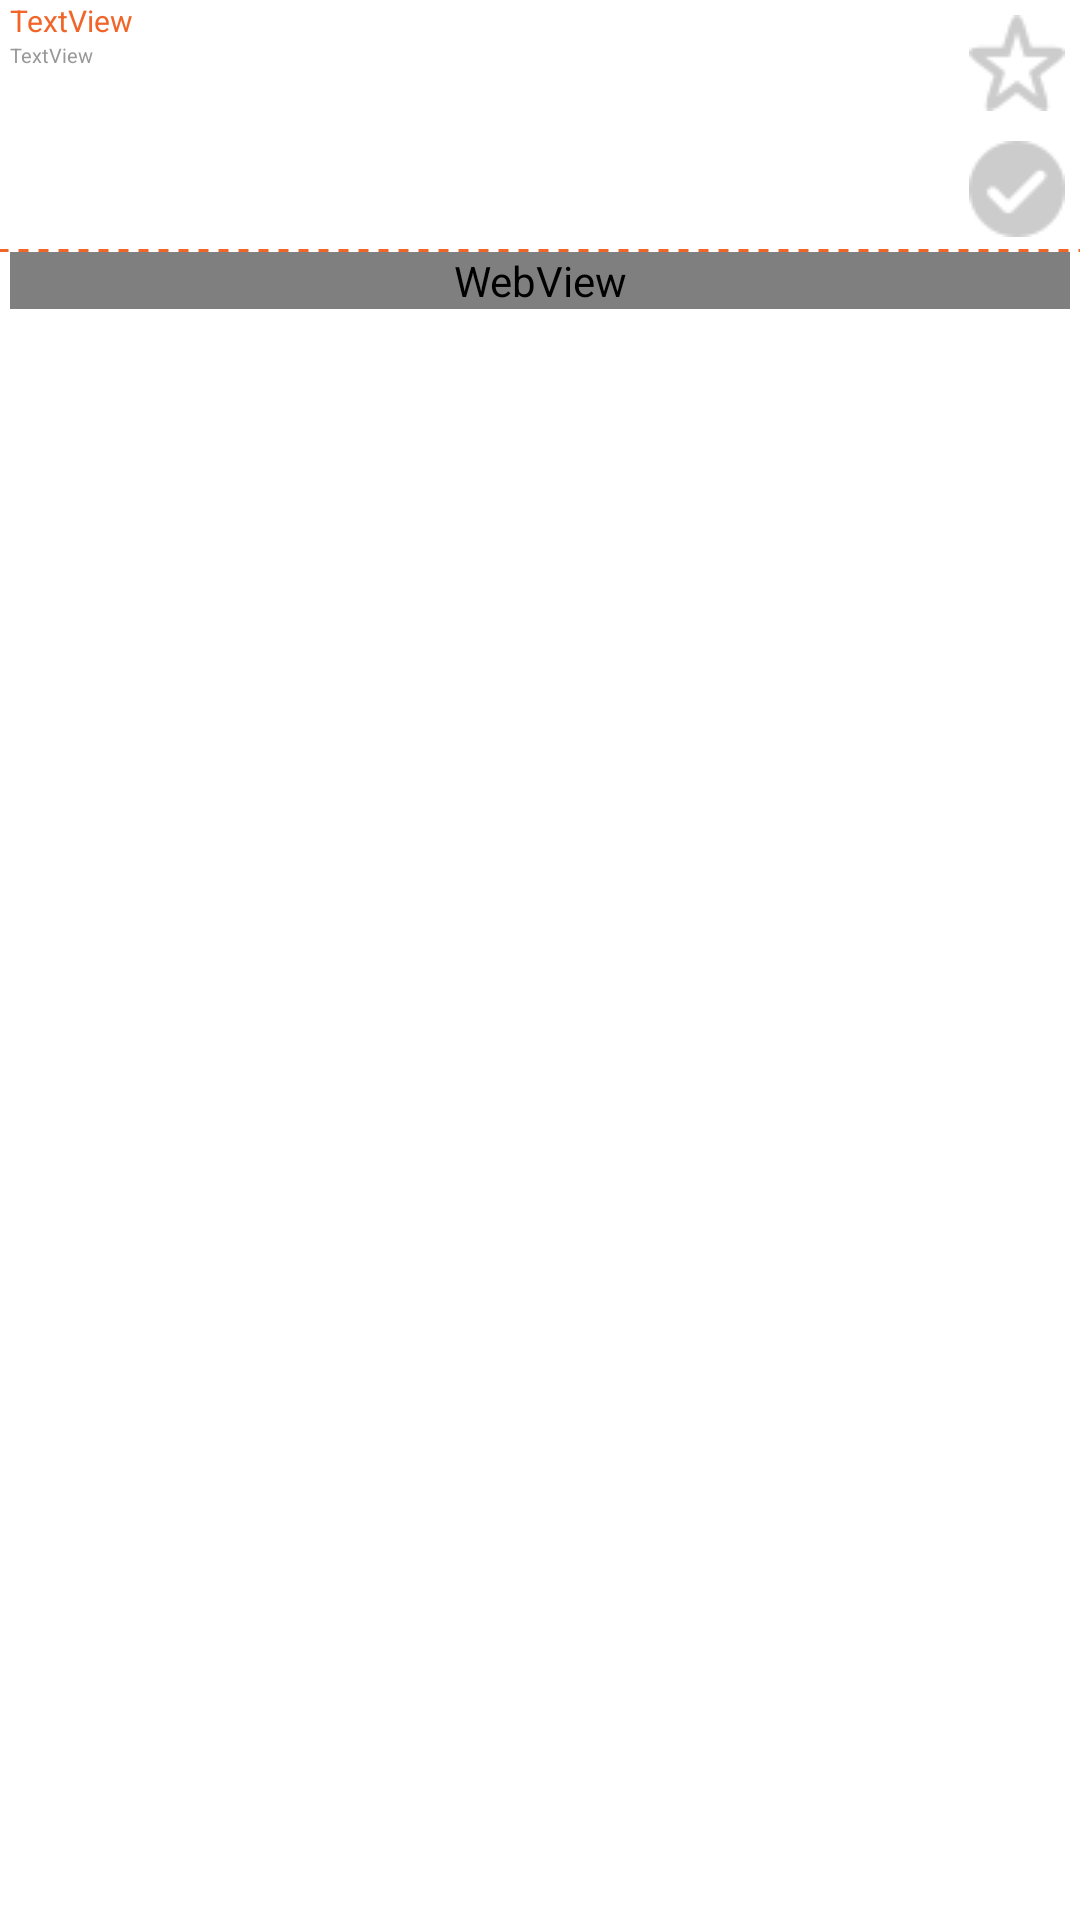

Icons on this 1080x1920 Android screen, each with the point to tap as (x=x, y=y):
fav false: (x=1017, y=63)
read false: (x=1017, y=189)
